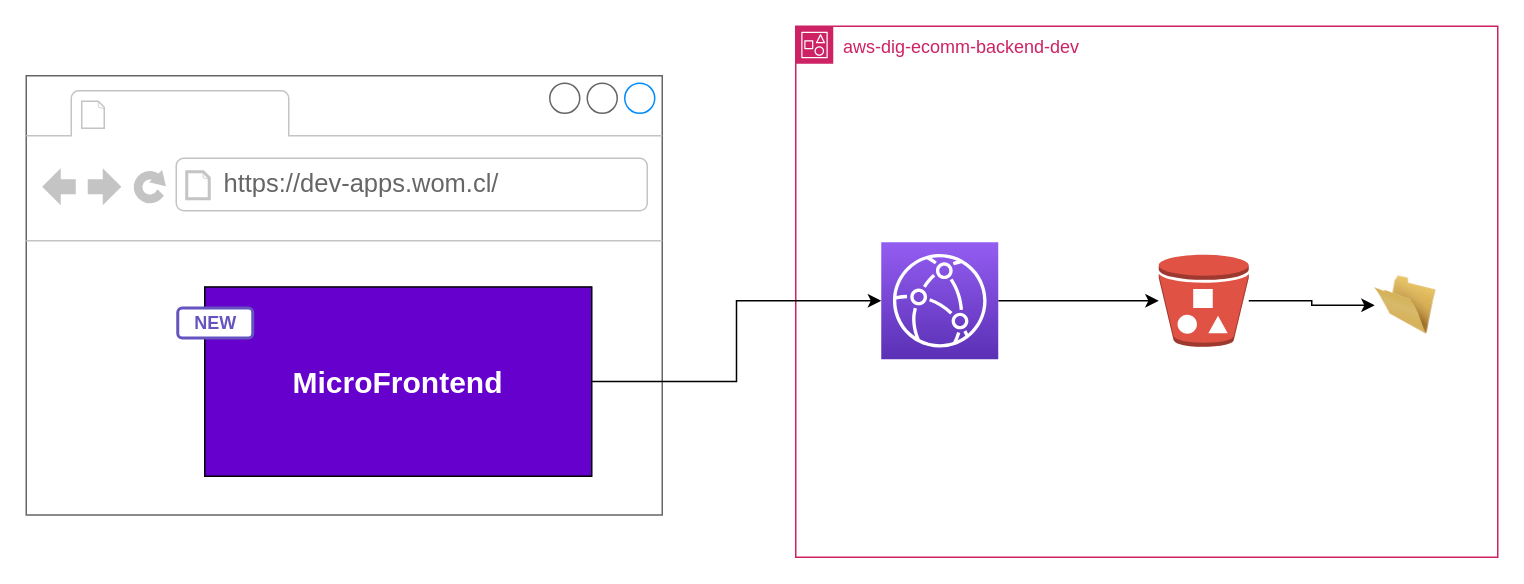
This 1524x584 diagram has some shape labels left out. Each missing label, with the centre of its shape:
"Dev-Apps" goes at pixel 198 112.
"dev-apps.wom.cl" goes at pixel 939 300.
"wom-apps-dev" goes at pixel 1203 300.
